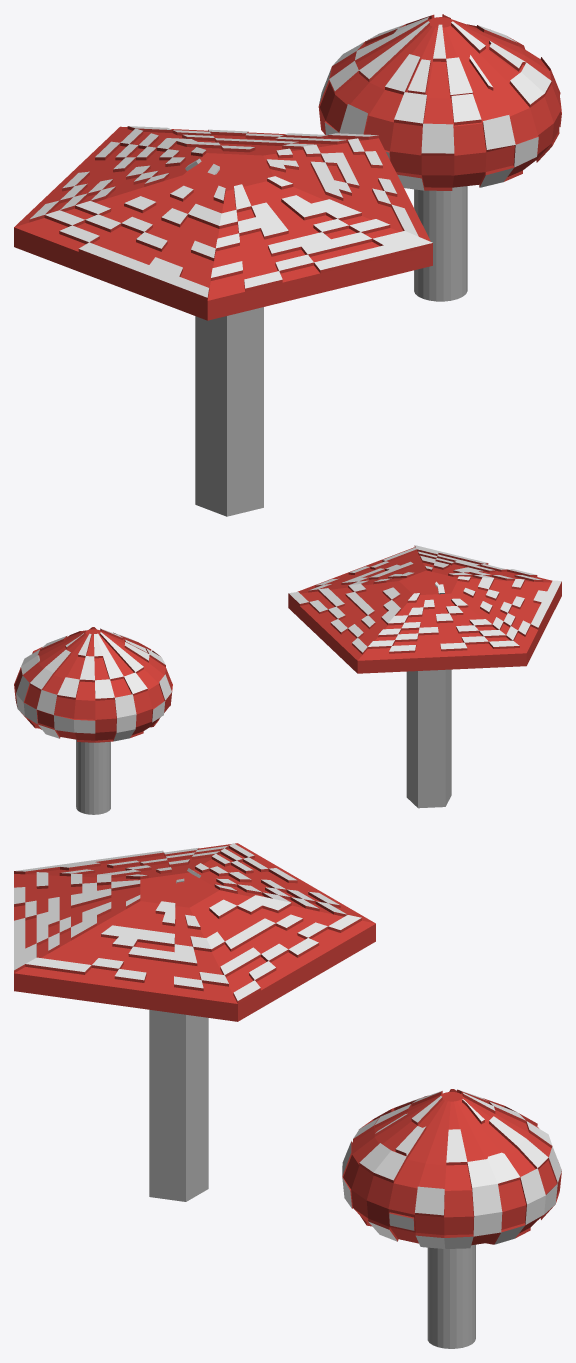
Rendered from fly agaric.fbx.
The picture shows the model from 3 angles, top to bottom: view 1: azimuth 30°, elevation 25°; view 2: azimuth 150°, elevation 25°; view 3: azimuth 270°, elevation 25°; orthographic projection. The views are drawn at different scales.
Visible parts, largest first — view 1: Fly Agaric, Fly Agaric.001; view 2: Fly Agaric, Fly Agaric.001; view 3: Fly Agaric, Fly Agaric.001.
Boxes of the visible parts, x1,y1,x2,y2 form: Fly Agaric: [14, 126, 432, 516]; Fly Agaric.001: [318, 14, 561, 301]; Fly Agaric: [288, 545, 561, 808]; Fly Agaric.001: [14, 627, 172, 814]; Fly Agaric: [14, 843, 375, 1201]; Fly Agaric.001: [342, 1089, 561, 1348].
Size of the model in its own units: 529 by 266 by 427.
